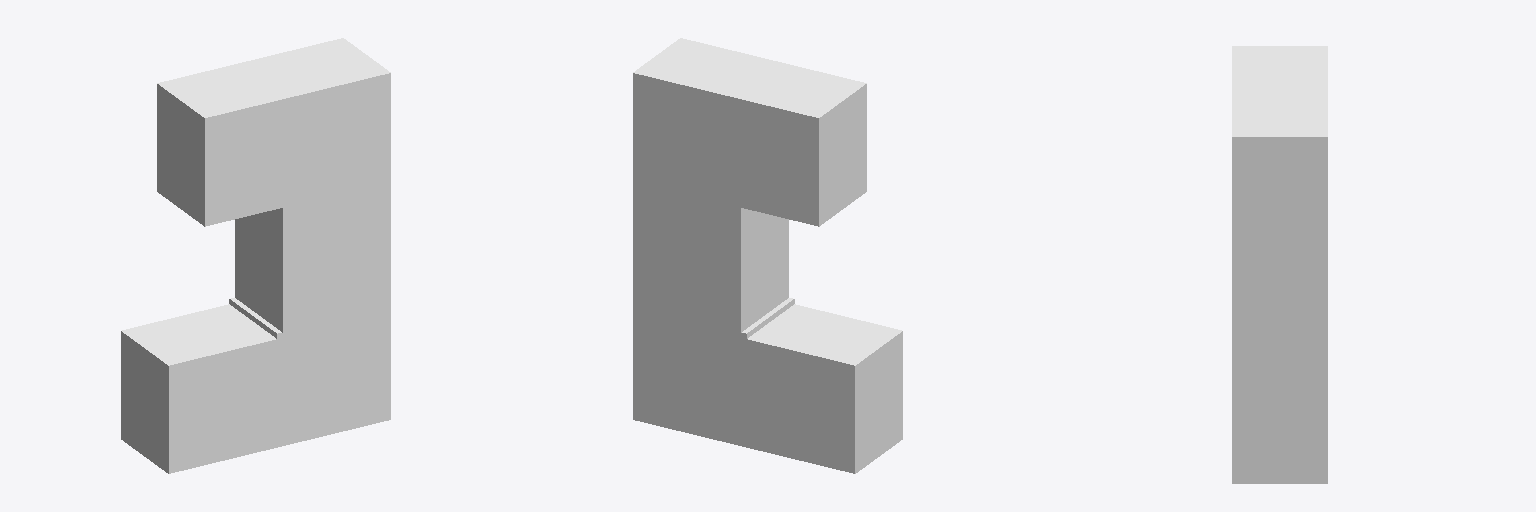
Rendered from RIGHT-0-DOOR_1A.obj.
The picture shows the model from 3 angles: view 1: azimuth 30°, elevation 25°; view 2: azimuth 150°, elevation 25°; view 3: azimuth 270°, elevation 25°; orthographic projection.
Visible parts, largest first — view 1: DOOR_1A; view 2: DOOR_1A; view 3: DOOR_1A.
Part boxes in pixels (left/top/right/bottom): DOOR_1A: left=121, top=38, right=390, bottom=473; DOOR_1A: left=633, top=38, right=902, bottom=473; DOOR_1A: left=1232, top=46, right=1327, bottom=483.
Size of the model in its own units: 4.3 by 6.4 by 1.6.